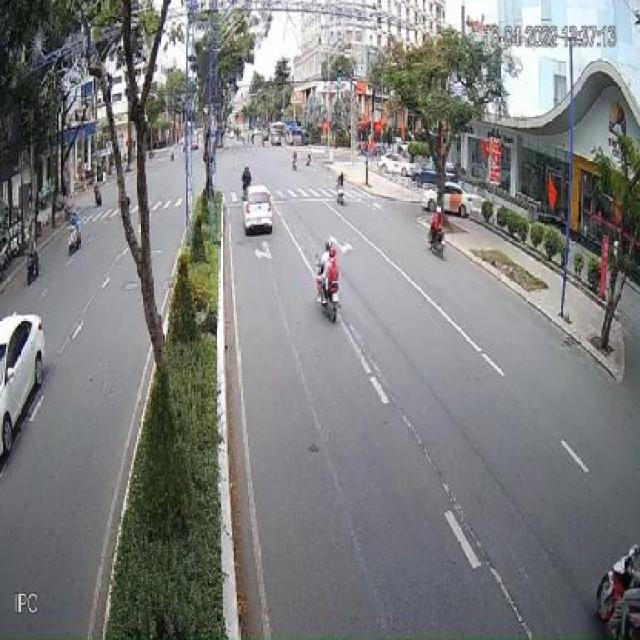car: (0, 314, 46, 471), (246, 188, 277, 235)
motorbike: (595, 540, 640, 638), (317, 241, 344, 323), (428, 210, 448, 260), (69, 226, 81, 256), (242, 164, 253, 196), (337, 171, 347, 206)
